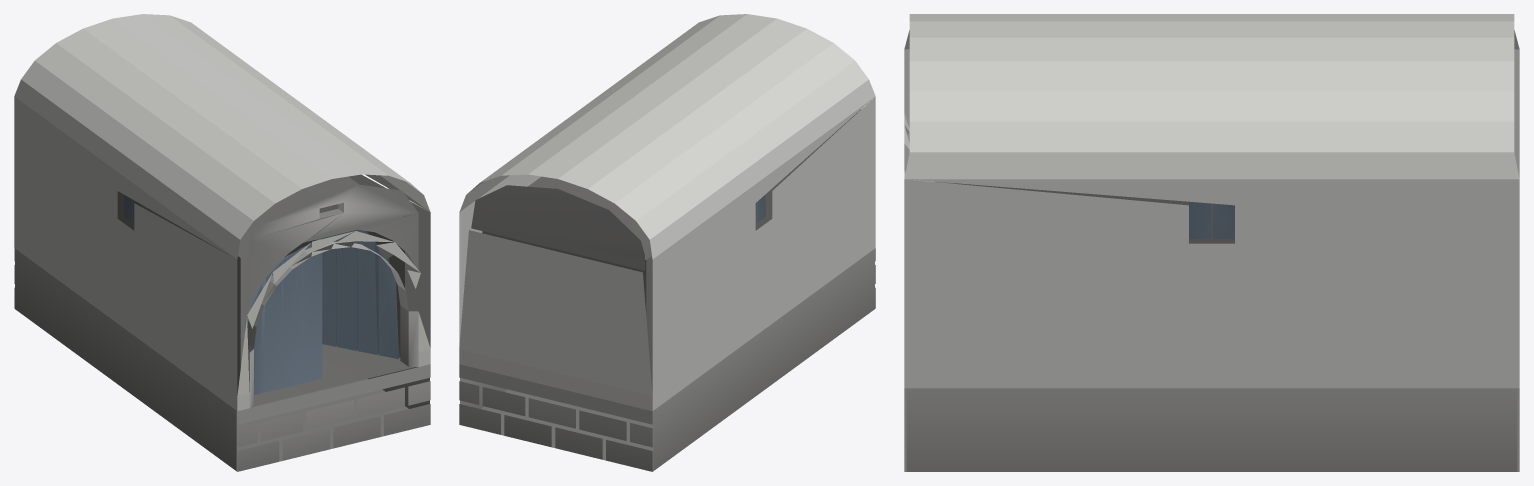
Rendered from boathouse.lod.glb.
3 renders of one model, left to right at view 1: azimuth 30°, elevation 25°; view 2: azimuth 150°, elevation 25°; view 3: azimuth 270°, elevation 25°, orthographic. The views are drawn at different scales.
Visible parts, largest first — view 1: boathouse.001; view 2: boathouse.001; view 3: boathouse.001.
Boxes of the visible parts, x1,y1,x2,y2 form: boathouse.001: [14, 14, 430, 471]; boathouse.001: [459, 14, 875, 471]; boathouse.001: [904, 14, 1519, 471].
Size of the model in its own units: 4.4 by 5.83 by 8.8.
